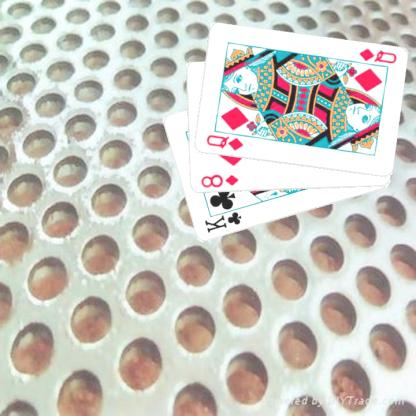8D: (198, 172, 240, 189)
KC: (202, 204, 244, 235)
QD: (204, 132, 244, 152), (356, 46, 397, 65)
